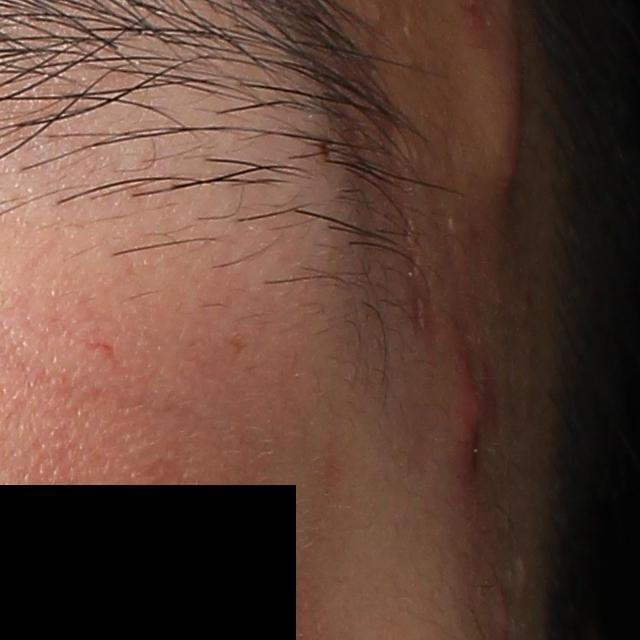papule: (456, 360, 486, 471)
